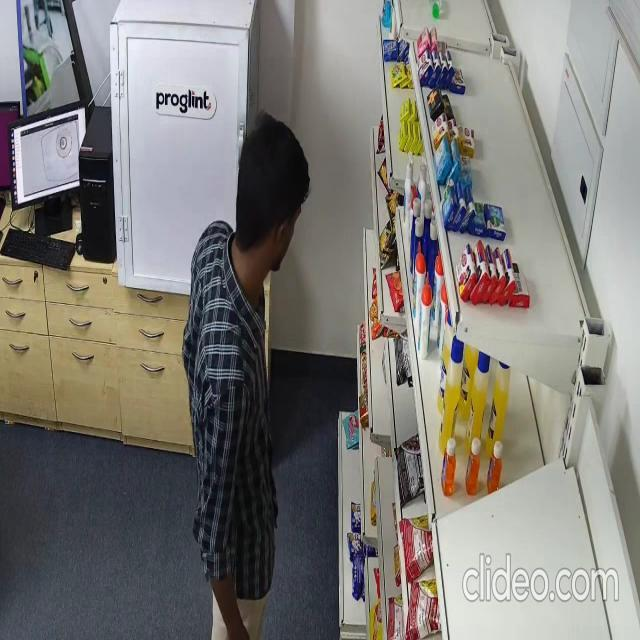normal: (179, 114, 312, 640)
